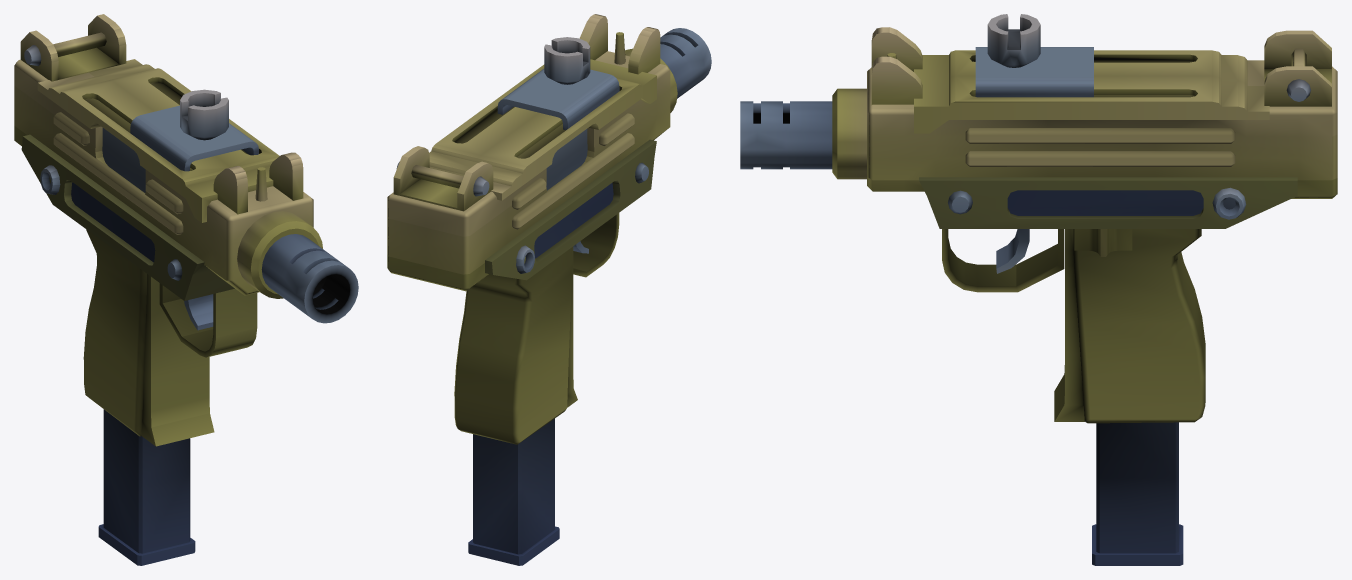
The model's file is FireArms_Handgun_SMG.gltf.
3 renders of one model, left to right at view 1: azimuth 30°, elevation 25°; view 2: azimuth 150°, elevation 25°; view 3: azimuth 270°, elevation 25°, orthographic. The views are drawn at different scales.
Parts seen in each view (by area): view 1: FireArms_Handgun_SMG; view 2: FireArms_Handgun_SMG; view 3: FireArms_Handgun_SMG.
Part boxes in pixels (<box>): FireArms_Handgun_SMG: <box>14,14,358,565</box>; FireArms_Handgun_SMG: <box>387,14,711,565</box>; FireArms_Handgun_SMG: <box>740,14,1337,565</box>.
Size of the model in its own units: 0.1942 by 0.7563 by 0.7776.
2 materials, 2 textured.
